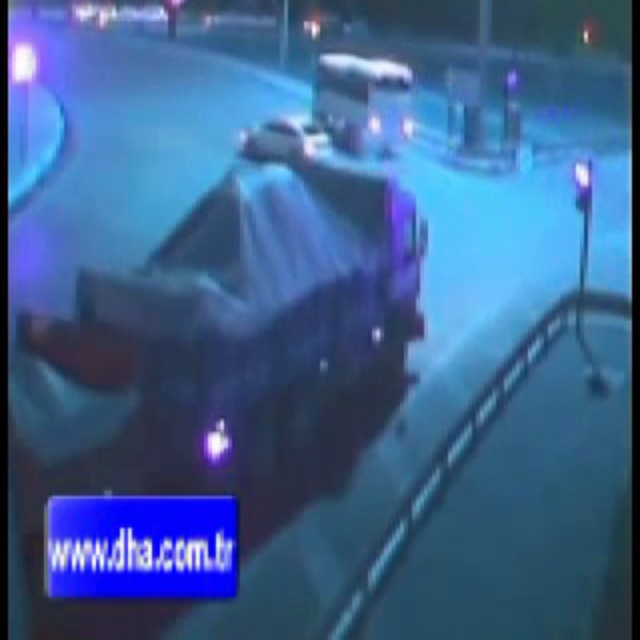acc: (254, 92, 379, 159)
